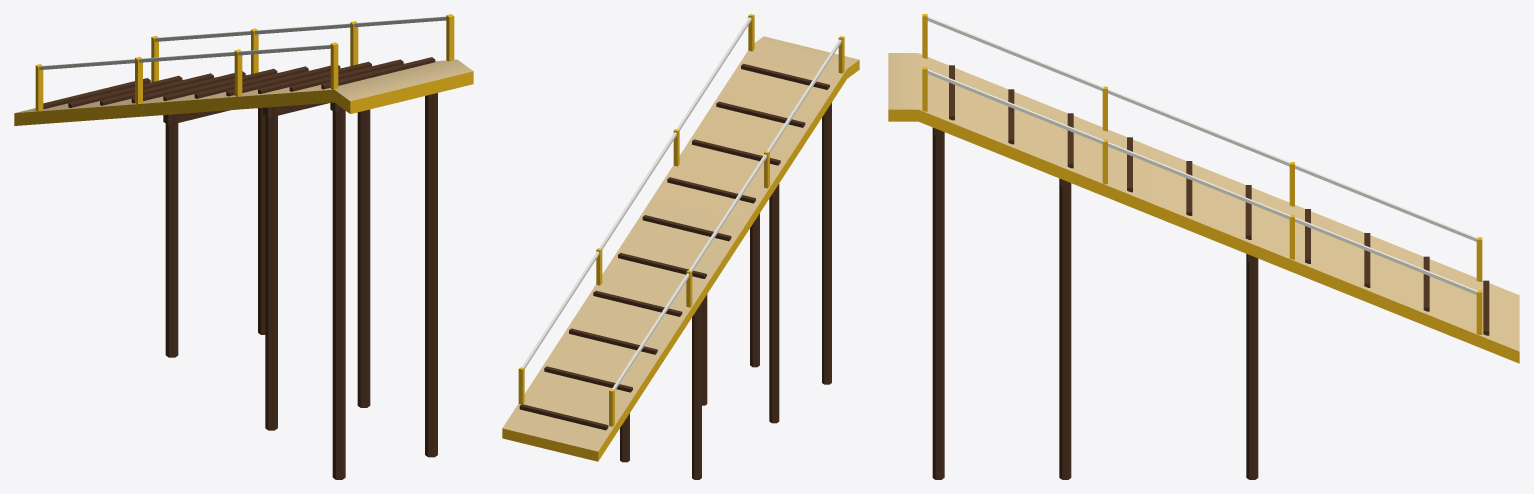
The model's file is Gangplank.fbx.
The picture shows the model from 3 angles, left to right: view 1: azimuth 30°, elevation 25°; view 2: azimuth 150°, elevation 25°; view 3: azimuth 270°, elevation 25°; orthographic projection. The views are drawn at different scales.
Parts seen in each view (by area): view 1: Gangplank; view 2: Gangplank; view 3: Gangplank.
Boxes of the visible parts, x1,y1,x2,y2 form: Gangplank: [14, 14, 473, 479]; Gangplank: [502, 14, 859, 479]; Gangplank: [888, 14, 1519, 479].
Bounding box in the file's own units: 2 × 6.86 × 9.45.
